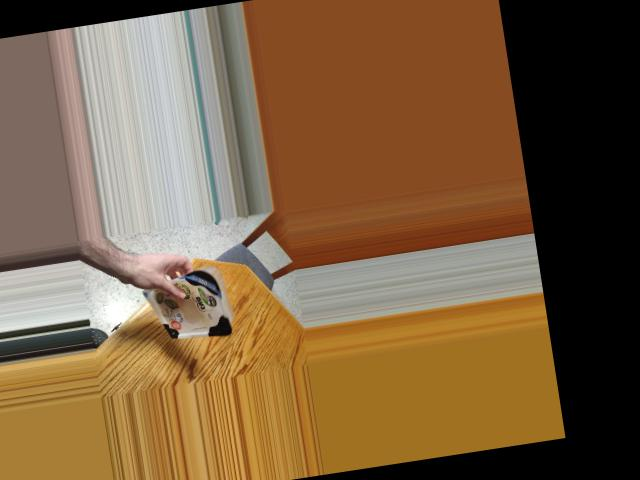cheese: (156, 261, 239, 340)
